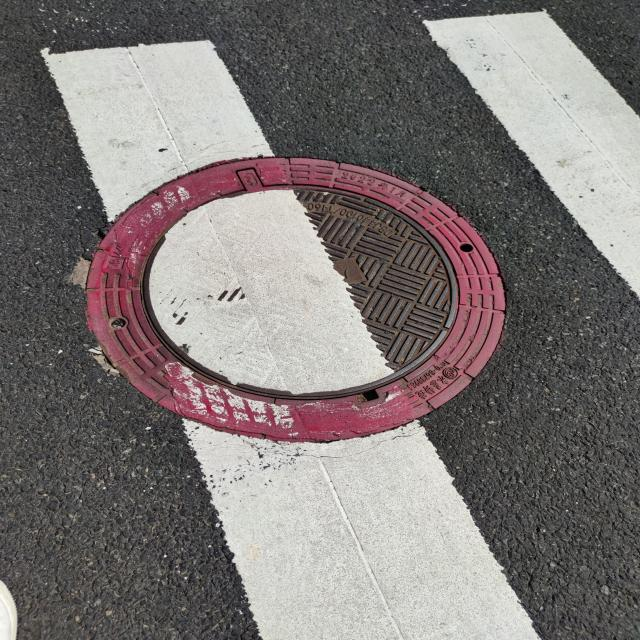Good: (85, 153, 507, 450)
